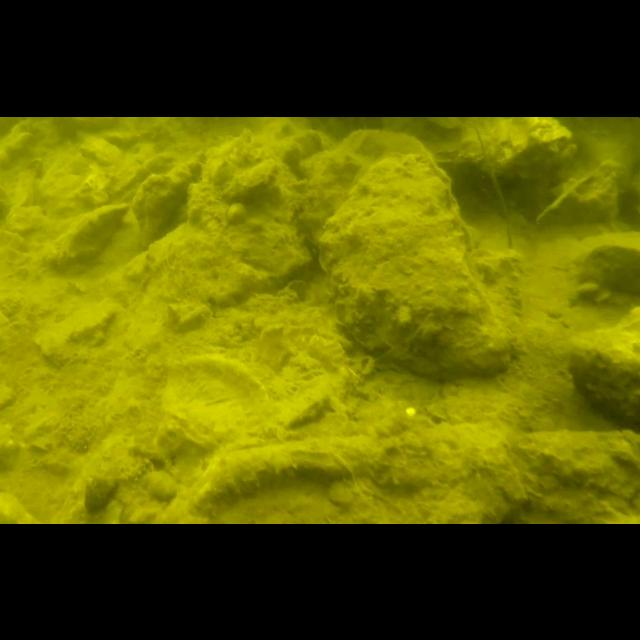Oyster-Closed: (318, 151, 514, 379), (192, 426, 640, 524), (298, 126, 430, 254), (164, 354, 268, 451), (562, 305, 640, 431), (131, 151, 203, 245), (48, 202, 130, 266), (220, 154, 278, 198)
Oyster-Open: (459, 116, 578, 176), (378, 116, 469, 164)
